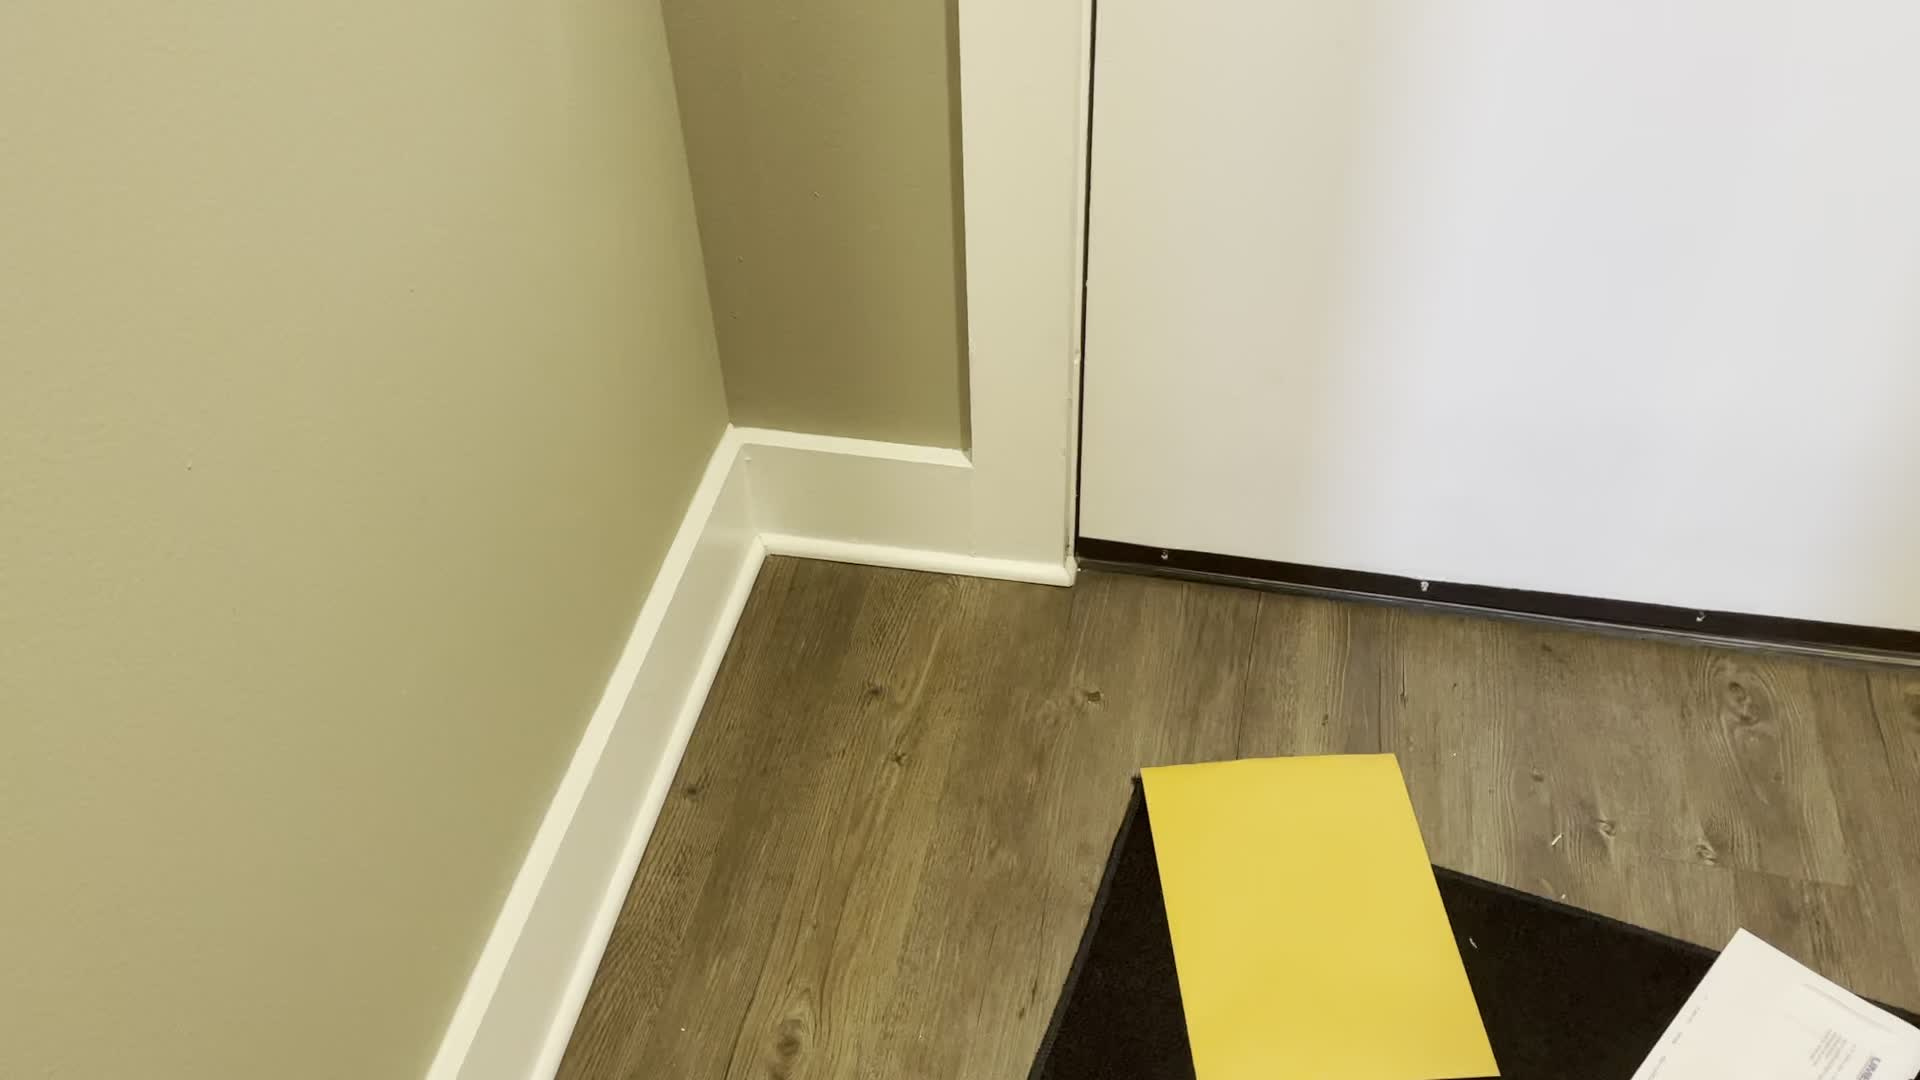envelope: (1124, 745, 1505, 1077), (1615, 909, 1920, 1080)
